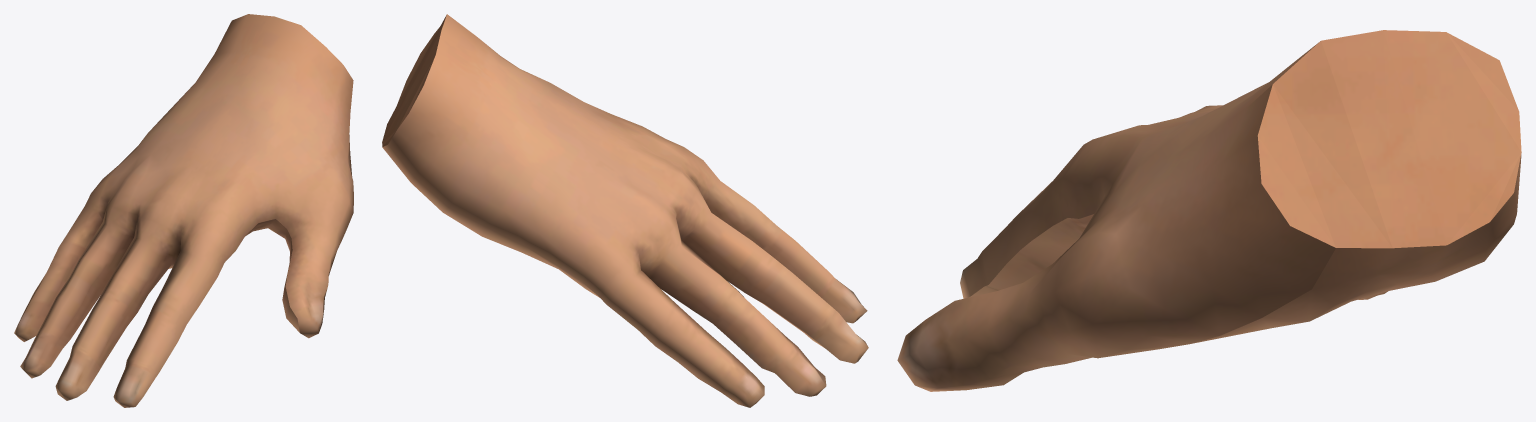
The model's file is AND SON HAND.gltf.
The picture shows the model from 3 angles, left to right: view 1: azimuth 30°, elevation 25°; view 2: azimuth 150°, elevation 25°; view 3: azimuth 270°, elevation 25°; orthographic projection. The views are drawn at different scales.
Parts seen in each view (by area): view 1: AND SON HAND; view 2: AND SON HAND; view 3: AND SON HAND.
Part boxes in pixels (x1=…): AND SON HAND: x1=14, y1=14, x2=353, y2=407; AND SON HAND: x1=382, y1=14, x2=868, y2=407; AND SON HAND: x1=897, y1=30, x2=1521, y2=391.
Size of the model in its own units: 0.1734 by 0.1297 by 0.1376.
1 material, 1 textured.
